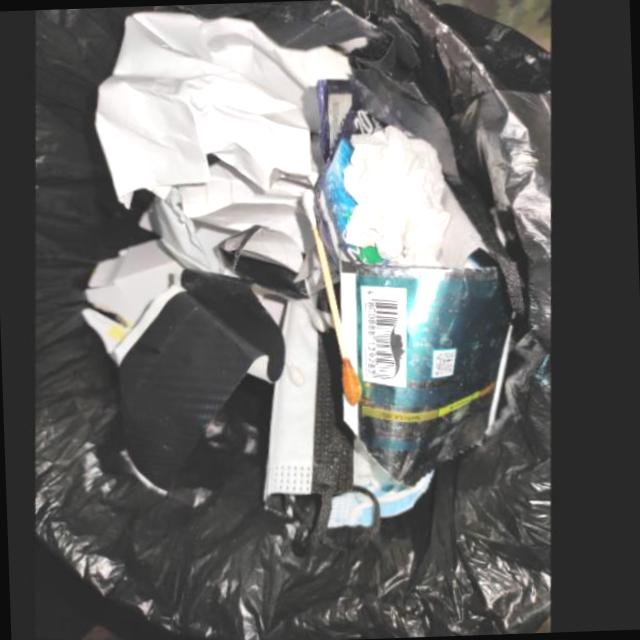carton: (86, 236, 185, 360)
giay: (100, 9, 355, 202), (348, 121, 504, 282), (151, 163, 308, 276)
hop_nhua: (356, 272, 460, 483)
khau_trang: (264, 283, 356, 513), (328, 432, 434, 525)
